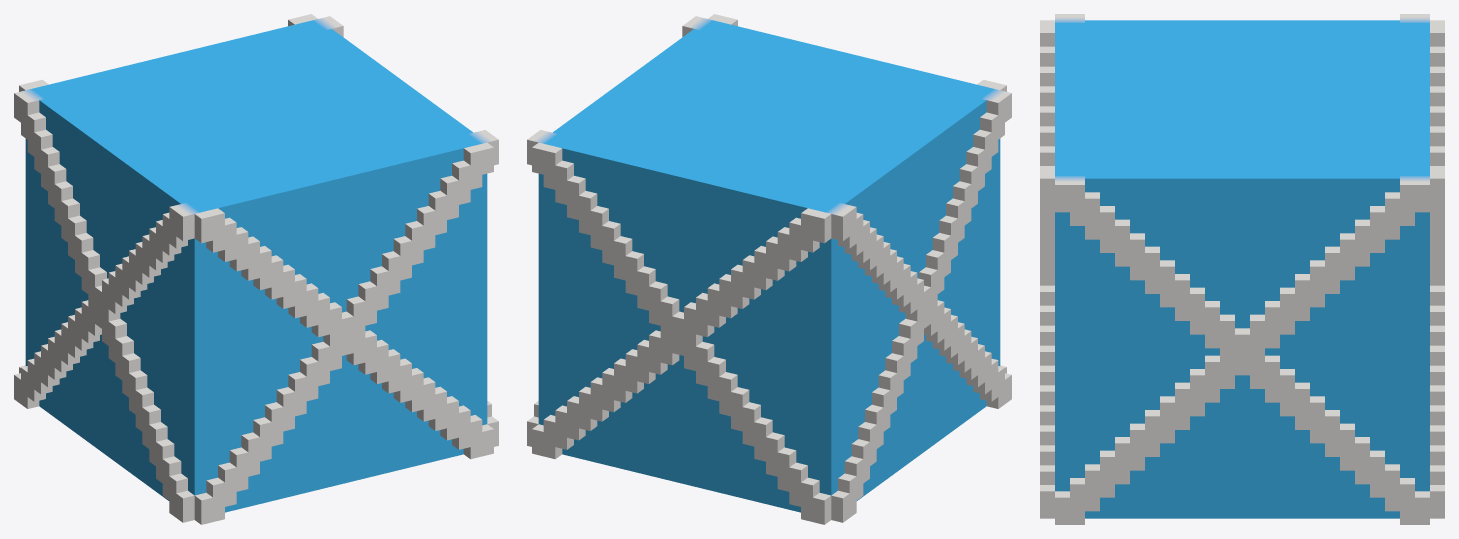
Rendered from NewModel.fbx.
3 renders of one model, left to right at view 1: azimuth 30°, elevation 25°; view 2: azimuth 150°, elevation 25°; view 3: azimuth 270°, elevation 25°, orthographic. The views are drawn at different scales.
Parts seen in each view (by area): view 1: Box; view 2: Box; view 3: Box.
Boxes of the visible parts, box(x1,y1,x2,y2) form: Box: box(14, 14, 498, 524); Box: box(527, 14, 1011, 524); Box: box(1040, 14, 1444, 524).
Bounding box in the file's own units: 27 × 25 × 27.
1 material, 1 textured.
